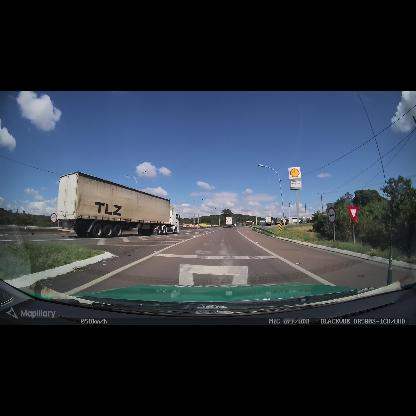O-MP: (279, 222, 282, 232)
R-2: (347, 206, 359, 224)
R-24a: (327, 207, 336, 223), (50, 213, 57, 223)
